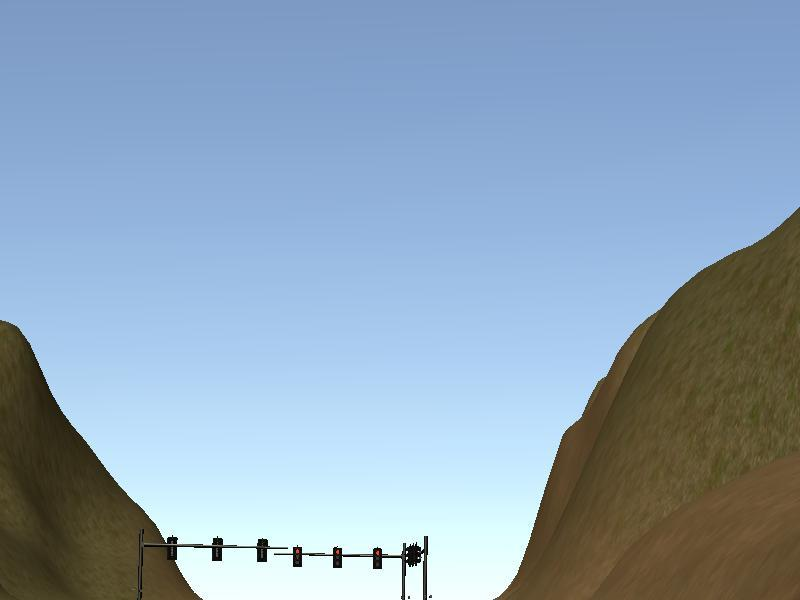Red: (331, 546, 342, 569), (372, 548, 381, 570), (293, 545, 301, 566)
